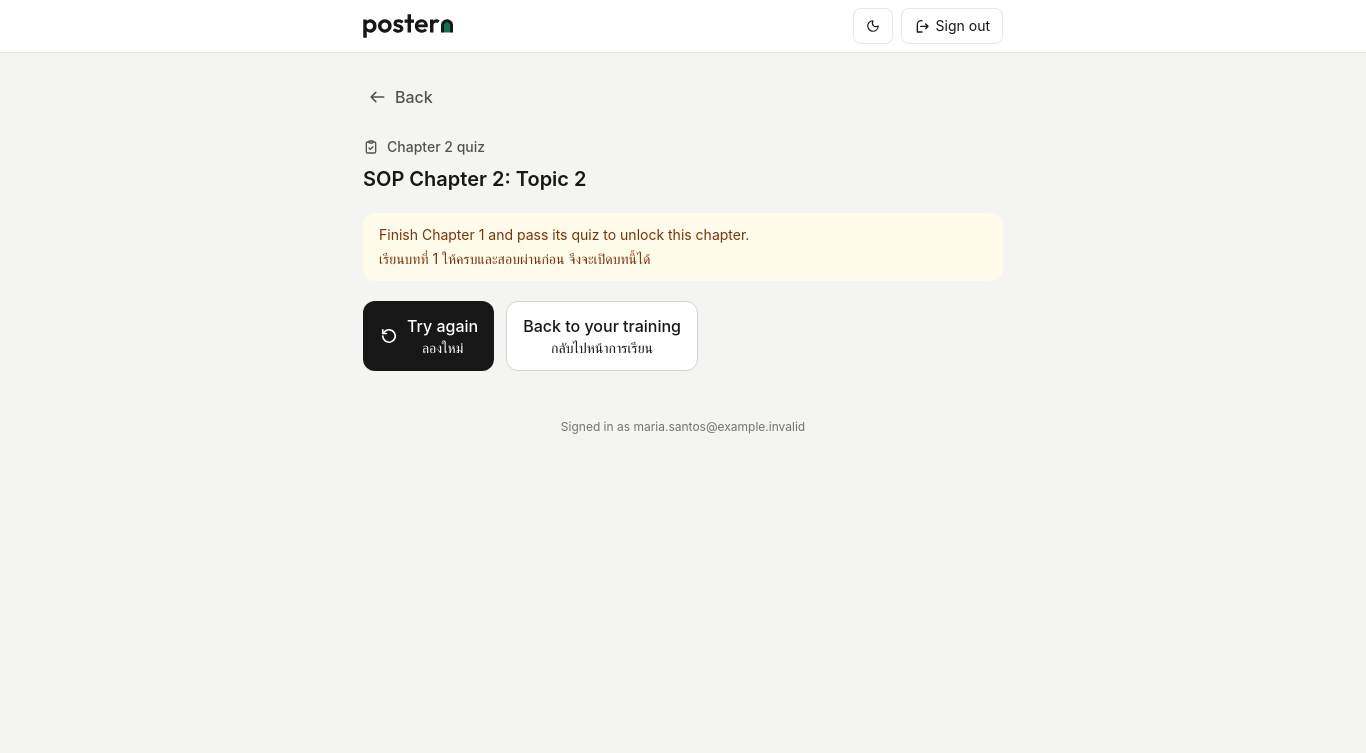
Test case: a deep link to a quiz that is still locked says why and leads back to the training
Check: the text "Finish Chapter 1 and pass its quiz to unlock this chapter." is shown, box [379, 226, 749, 243]
Click the button "Back to your training กลับไปหน้าการเรียน": x=602, y=336 [506, 301, 698, 371]
(page scrolled)
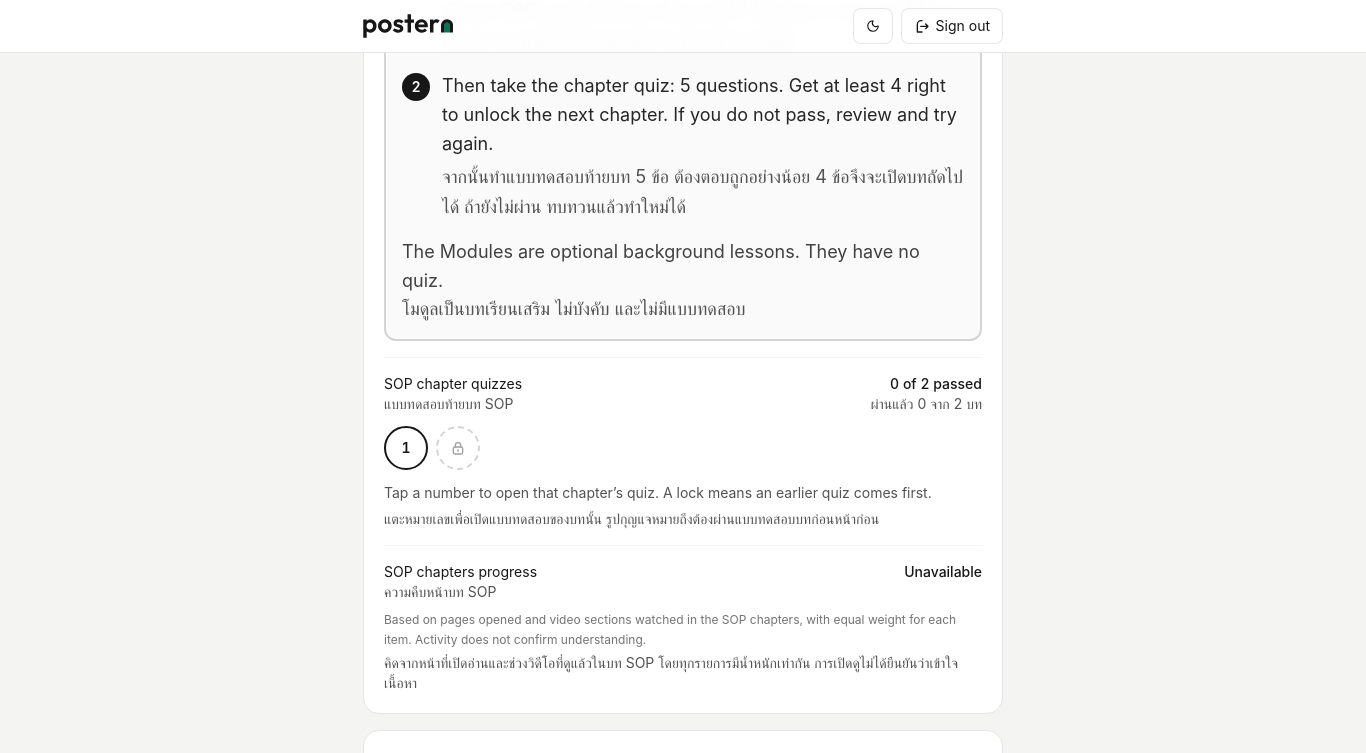
Check: the text "0 of 2 passed" is shown, box [890, 375, 982, 392]
